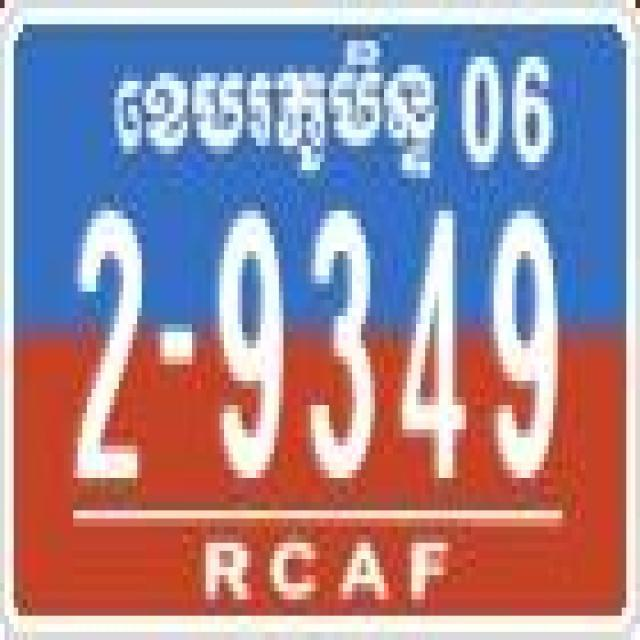RCAF: (110, 33, 442, 190)
